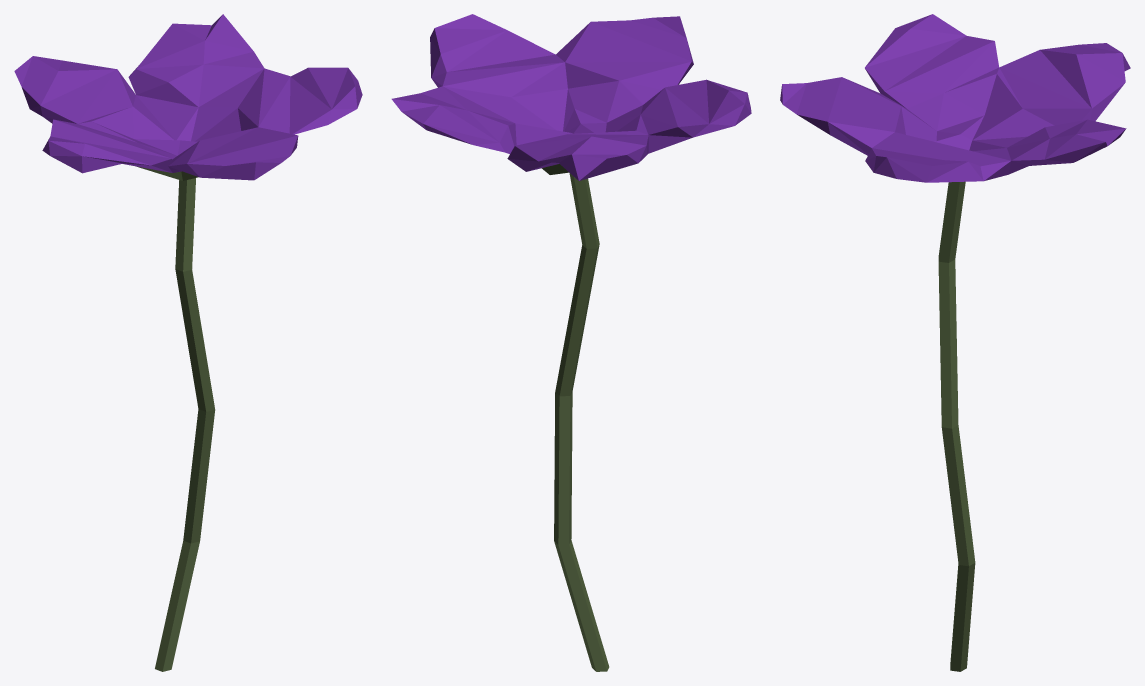
The model's file is SM_Envr_Nature_Plant_Flower_03.fbx.
3 renders of one model, left to right at view 1: azimuth 30°, elevation 25°; view 2: azimuth 150°, elevation 25°; view 3: azimuth 270°, elevation 25°, orthographic. The views are drawn at different scales.
Visible parts, largest first — view 1: SM_Envr_Nature_Plant_Flower_03; view 2: SM_Envr_Nature_Plant_Flower_03; view 3: SM_Envr_Nature_Plant_Flower_03.
Part boxes in pixels (x1=…): SM_Envr_Nature_Plant_Flower_03: x1=14, y1=14, x2=362, y2=671; SM_Envr_Nature_Plant_Flower_03: x1=391, y1=14, x2=751, y2=671; SM_Envr_Nature_Plant_Flower_03: x1=780, y1=14, x2=1130, y2=671.
Size of the model in its own units: 32.04 by 56.45 by 30.28.
